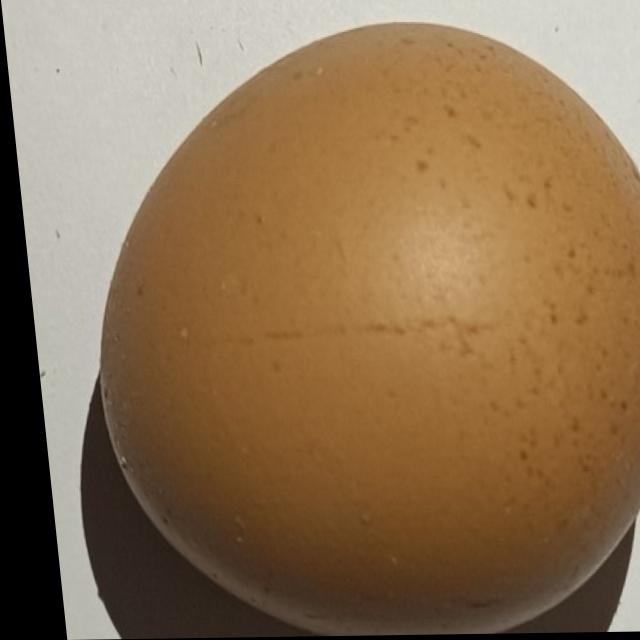unfresh: (47, 3, 640, 639)
